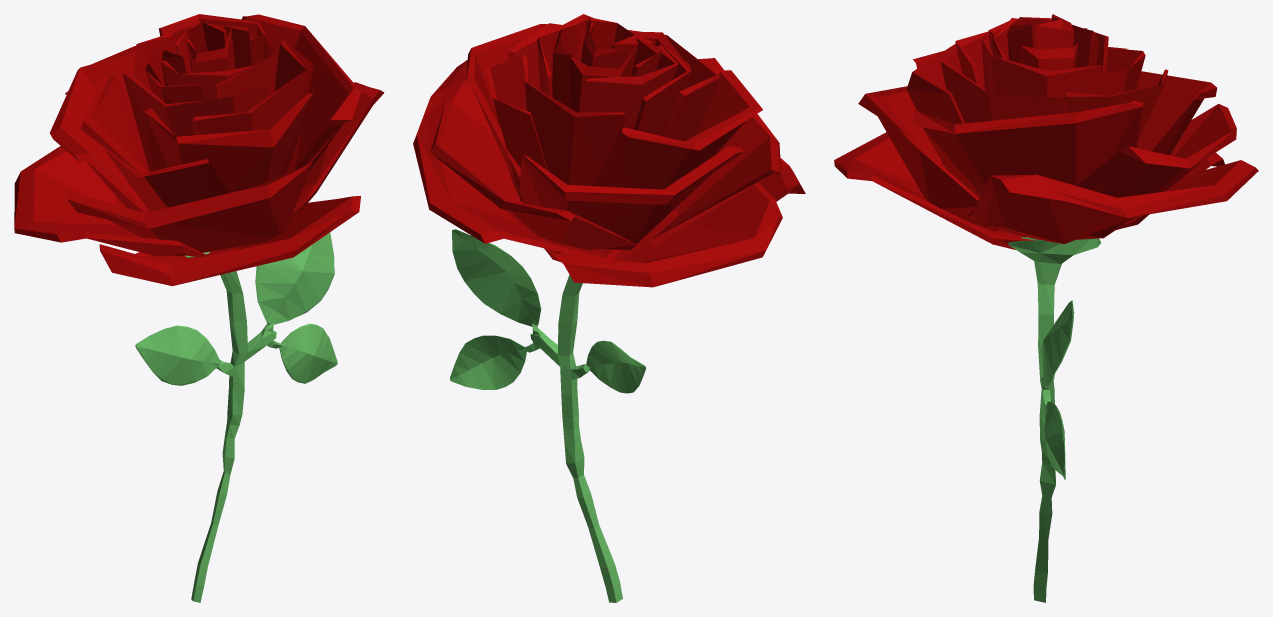
Rendered from rose.glb.
The picture shows the model from 3 angles, left to right: view 1: azimuth 30°, elevation 25°; view 2: azimuth 150°, elevation 25°; view 3: azimuth 270°, elevation 25°; orthographic projection. The views are drawn at different scales.
Visible parts, largest first — view 1: pCube10 rose, rose pCube22 rose_bottom; view 2: pCube10 rose, rose pCube22 rose_bottom; view 3: pCube10 rose, rose pCube22 rose_bottom.
Part boxes in pixels (<box>): pCube10 rose: <box>14,14,384,286</box>; rose pCube22 rose_bottom: <box>135,232,337,602</box>; pCube10 rose: <box>413,14,805,287</box>; rose pCube22 rose_bottom: <box>450,229,646,602</box>; pCube10 rose: <box>834,14,1258,249</box>; rose pCube22 rose_bottom: <box>1008,237,1100,602</box>.
Size of the model in its own units: 28.38 by 45.61 by 29.67.
